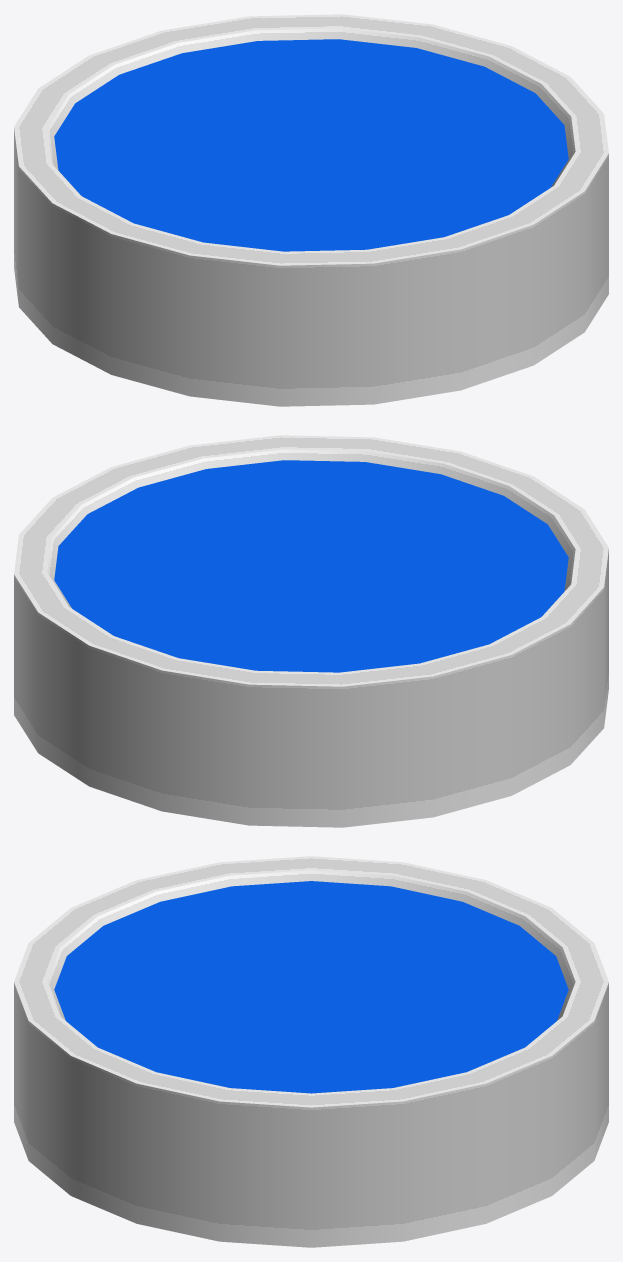
The model's file is glf_marker__glf_marker.glb.
3 renders of one model, top to bottom at view 1: azimuth 30°, elevation 25°; view 2: azimuth 150°, elevation 25°; view 3: azimuth 270°, elevation 25°, orthographic.
Parts seen in each view (by area): view 1: polygon0; view 2: polygon0; view 3: polygon0.
Part boxes in pixels (left/top/right/bottom): polygon0: left=14, top=14, right=608, bottom=406; polygon0: left=14, top=435, right=608, bottom=827; polygon0: left=14, top=856, right=608, bottom=1247.
Bounding box in the file's own units: 1 × 0.26 × 1.
1 material, 1 textured.
